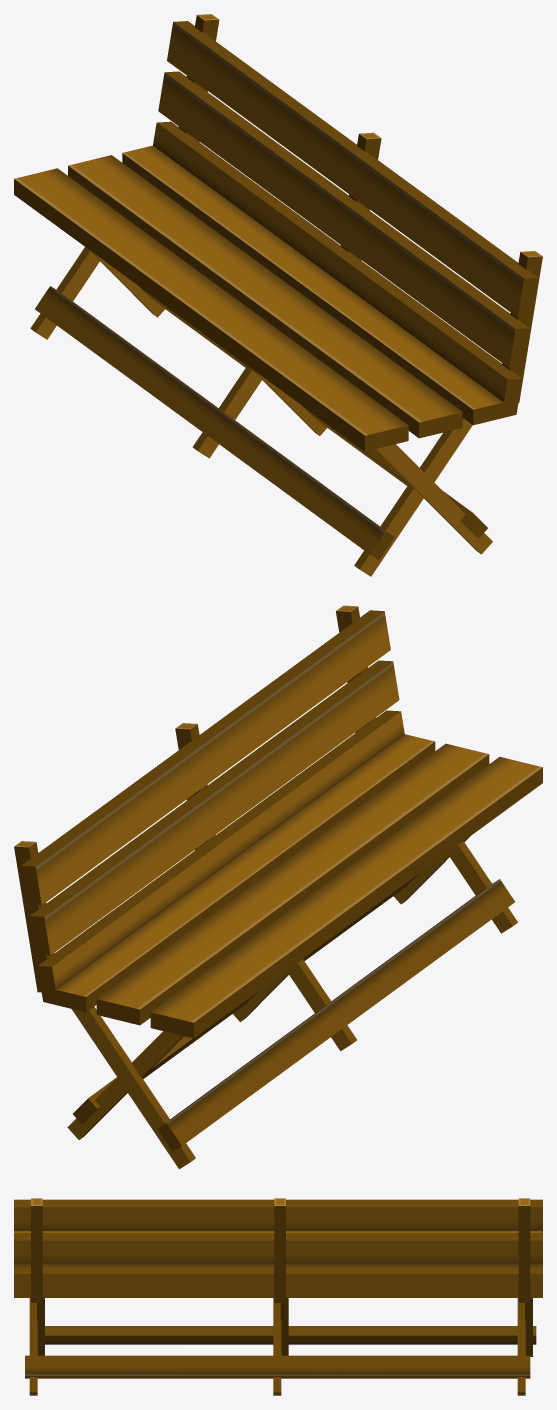
Rendered from park_bench_stylized_handpainted_game_ready.glb.
The picture shows the model from 3 angles, top to bottom: view 1: azimuth 30°, elevation 25°; view 2: azimuth 150°, elevation 25°; view 3: azimuth 270°, elevation 25°; orthographic projection. The views are drawn at different scales.
Visible parts, largest first — view 1: Box023__0; view 2: Box023__0; view 3: Box023__0.
Boxes of the visible parts, bbox=[...] form: Box023__0: bbox=[14, 14, 542, 576]; Box023__0: bbox=[14, 605, 542, 1169]; Box023__0: bbox=[14, 1198, 542, 1395].
Size of the model in its own units: 62.28 by 89.61 by 200.
Materials: 1 (1 with a texture image).
